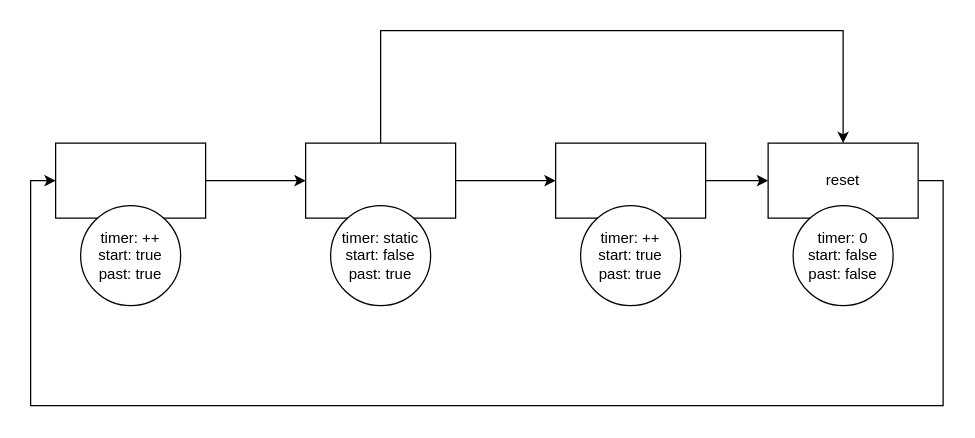
Image size: 975x438. Some labels were removed from this diagram. The shapes that lost their labels are listed below. From the top down, each one's box as (x1, y1, x2, y2) in pixels, then its label:
(54, 142, 206, 218): running
(304, 142, 456, 218): paused
(554, 142, 706, 218): resumed
